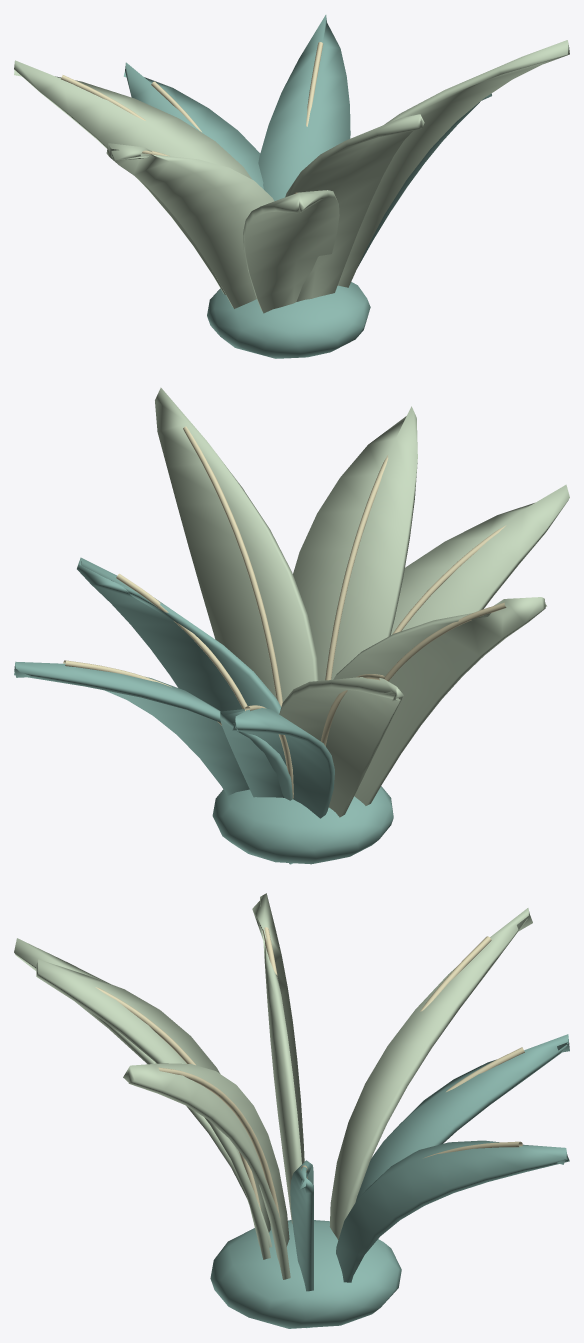
Rendered from bio_mist_leaf_01_far.glb.
The picture shows the model from 3 angles, top to bottom: view 1: azimuth 30°, elevation 25°; view 2: azimuth 150°, elevation 25°; view 3: azimuth 270°, elevation 25°; orthographic projection. The views are drawn at different scales.
Visible parts, largest first — view 1: Cupped condensate leaf.004, Cupped condensate leaf.003, Cupped condensate leaf.001, Cupped condensate leaf.007, Cupped condensate leaf.002, Root rosette, Cupped condensate leaf.005, Cupped condensate leaf.006, Cupped condensate leaf, Central leaf rib.003; view 2: Cupped condensate leaf.005, Cupped condensate leaf.002, Cupped condensate leaf.004, Cupped condensate leaf.007, Root rosette, Cupped condensate leaf, Cupped condensate leaf.003, Cupped condensate leaf.001, Cupped condensate leaf.006, Central leaf rib.005, Central leaf rib.002, Central leaf rib (+2 smaller); view 3: Root rosette, Cupped condensate leaf.001, Cupped condensate leaf.003, Cupped condensate leaf.002, Cupped condensate leaf.006, Cupped condensate leaf.005, Cupped condensate leaf.004, Cupped condensate leaf, Cupped condensate leaf.007, Central leaf rib.005, Central leaf rib.002, Central leaf rib.001.
Boxes of the visible parts, box(x1,y1,x2,y2) form: Cupped condensate leaf.004: box(106, 143, 274, 308); Cupped condensate leaf.003: box(258, 15, 350, 201); Cupped condensate leaf.001: box(14, 60, 251, 294); Cupped condensate leaf.007: box(243, 190, 339, 313); Cupped condensate leaf.002: box(285, 114, 424, 301); Root rosette: box(207, 282, 370, 358); Cupped condensate leaf.005: box(337, 40, 569, 287); Cupped condensate leaf.006: box(123, 62, 263, 189); Cupped condensate leaf: box(357, 93, 491, 267); Central leaf rib.003: box(306, 42, 323, 126); Cupped condensate leaf.005: box(155, 387, 318, 701); Cupped condensate leaf.002: box(293, 406, 417, 680); Cupped condensate leaf.004: box(333, 597, 546, 805); Cupped condensate leaf.007: box(391, 484, 569, 634); Root rosette: box(212, 786, 393, 864); Cupped condensate leaf: box(77, 557, 281, 713); Cupped condensate leaf.003: box(14, 661, 292, 800); Cupped condensate leaf.001: box(279, 677, 403, 864); Cupped condensate leaf.006: box(220, 708, 334, 864); Central leaf rib.005: box(183, 426, 282, 706); Central leaf rib.002: box(325, 455, 388, 680); Central leaf rib: box(116, 573, 247, 709); Root rosette: box(210, 1220, 401, 1328); Cupped condensate leaf.001: box(329, 908, 532, 1239); Cupped condensate leaf.003: box(336, 1140, 569, 1282); Cupped condensate leaf.002: box(36, 959, 270, 1259); Cupped condensate leaf.006: box(356, 1034, 569, 1201); Cupped condensate leaf.005: box(123, 1063, 290, 1279); Cupped condensate leaf.004: box(252, 893, 304, 1223); Cupped condensate leaf: box(290, 1160, 313, 1328); Cupped condensate leaf.007: box(14, 938, 272, 1247); Central leaf rib.005: box(158, 1067, 280, 1220); Central leaf rib.002: box(95, 987, 261, 1210); Central leaf rib.001: box(420, 936, 491, 1011).
Size of the model in its own units: 1.72 by 1.25 by 1.74.
